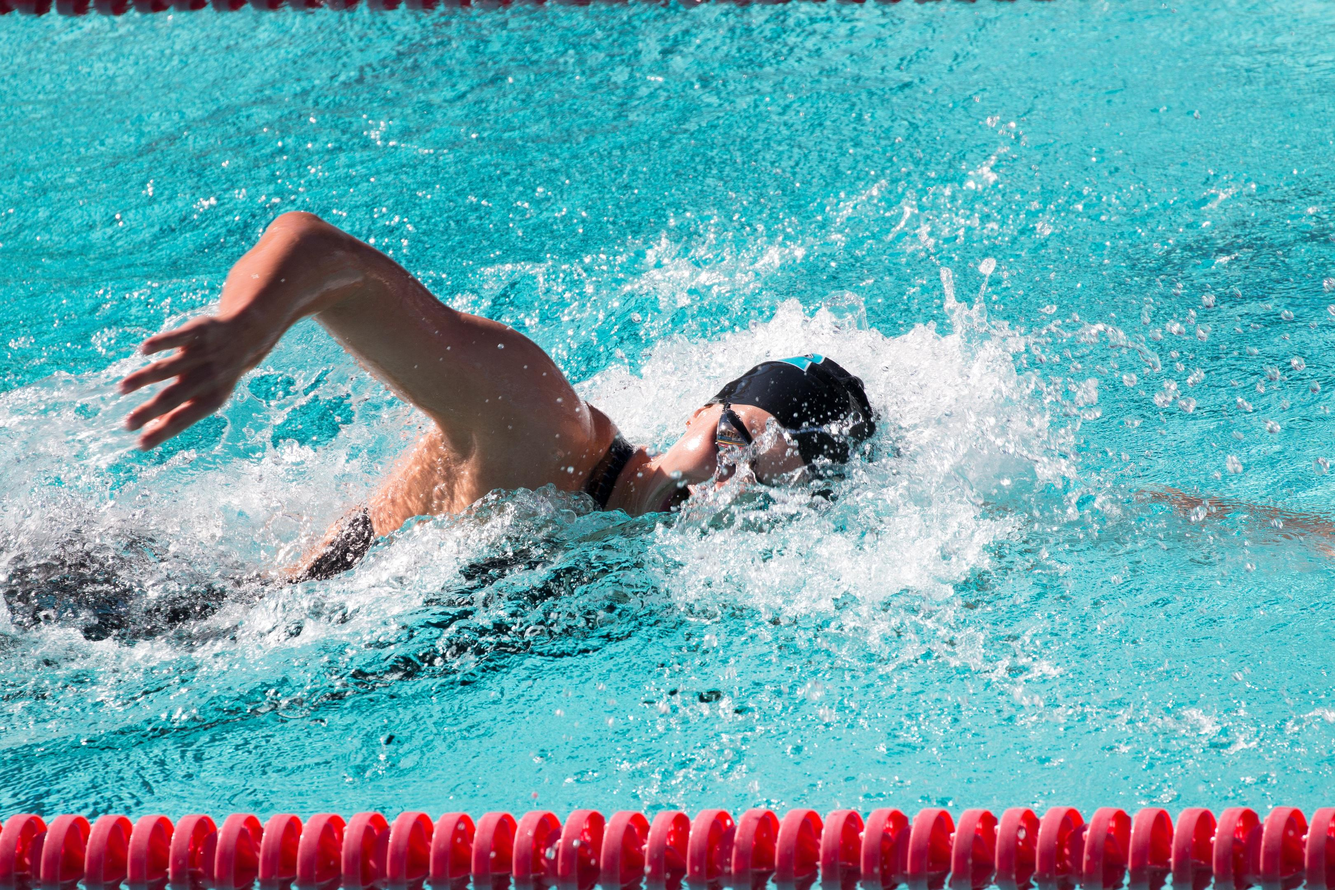swimmer: (123, 208, 869, 586)
